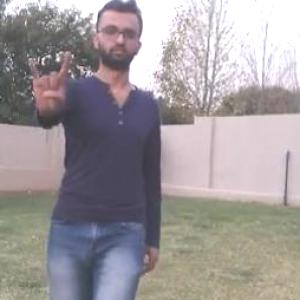takeoff-hand: (24, 45, 76, 118)
